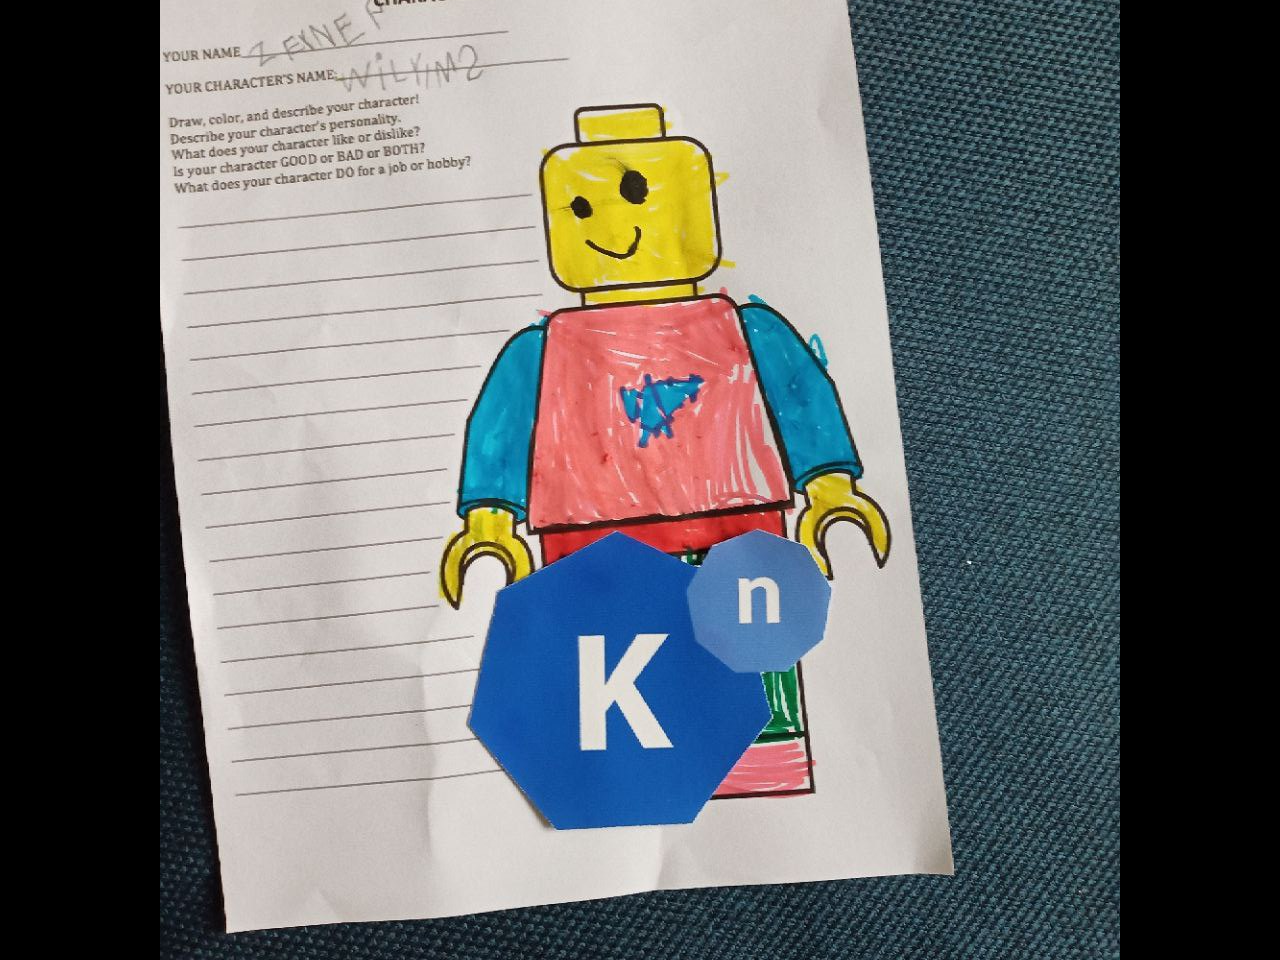knative: (467, 529, 835, 831)
